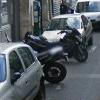Motorcycle: (20, 24, 94, 91)
